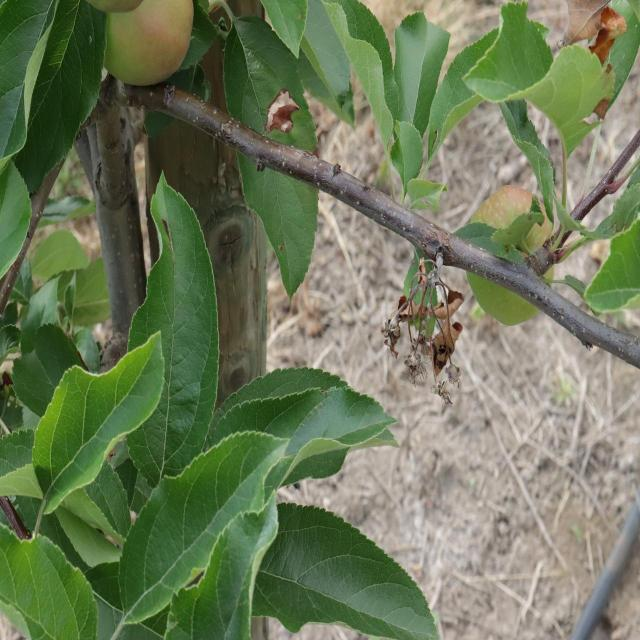-FireBlight-: (380, 266, 469, 397)
